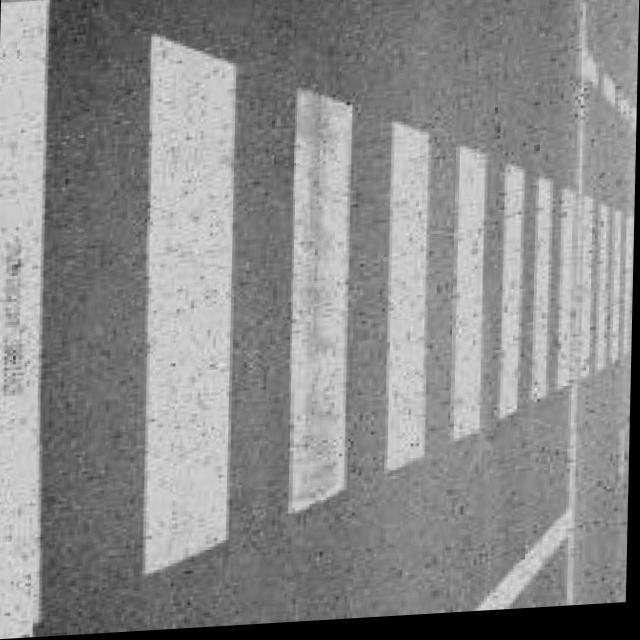zebra: (32, 13, 639, 629)
